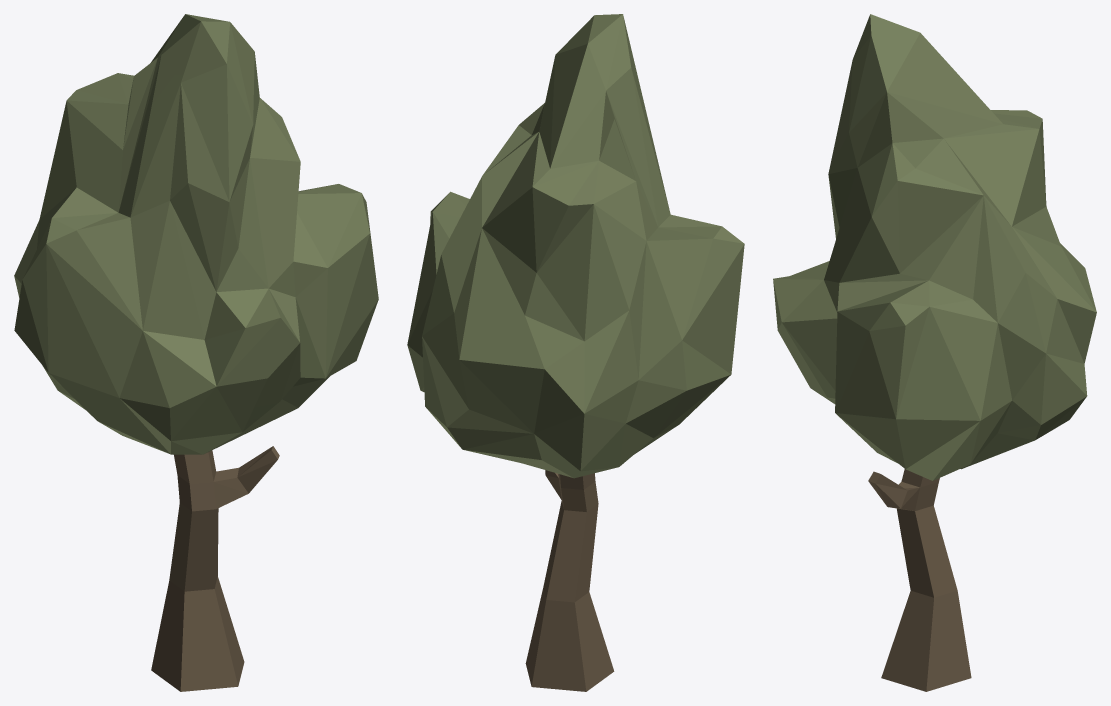
The model's file is tree.glb.
The picture shows the model from 3 angles, left to right: view 1: azimuth 30°, elevation 25°; view 2: azimuth 150°, elevation 25°; view 3: azimuth 270°, elevation 25°; orthographic projection. The views are drawn at different scales.
Parts seen in each view (by area): view 1: Leaves, Trunk; view 2: Leaves, Trunk; view 3: Leaves, Trunk.
Part boxes in pixels (box(x1,y1,x2,y2)): Leaves: box(14, 14, 378, 454); Trunk: box(151, 446, 279, 691); Leaves: box(407, 14, 744, 478); Trunk: box(525, 470, 614, 691); Leaves: box(773, 14, 1096, 480); Trunk: box(868, 469, 971, 691).
Bounding box in the file's own units: 3.18 × 6.21 × 2.83.
2 materials, 2 textured.
